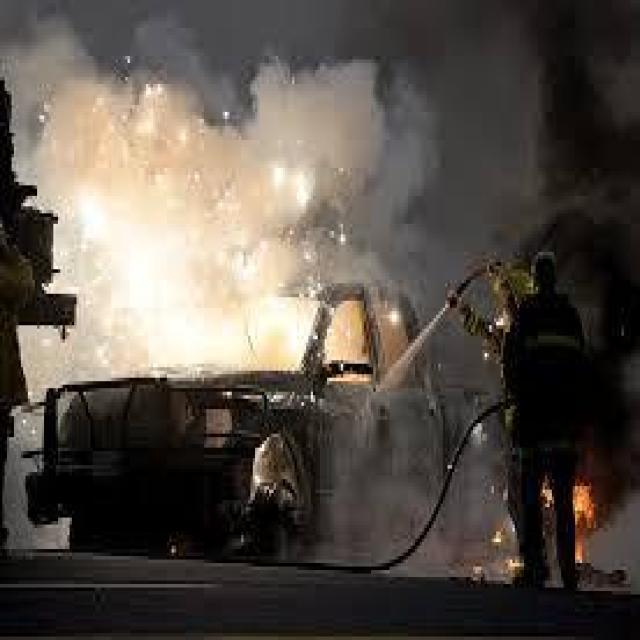smoke: (21, 20, 345, 280)
